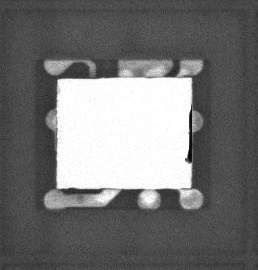DIE_BROKEN: (184, 105, 194, 165)
